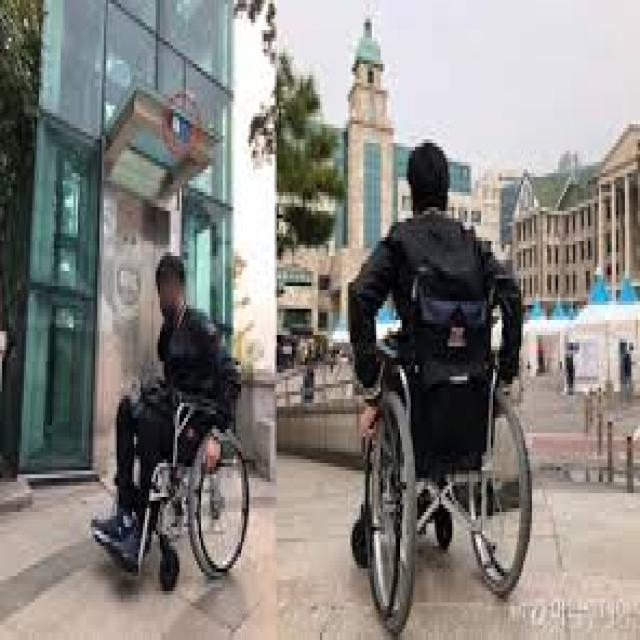wheelchair: (350, 142, 533, 636), (94, 253, 250, 592)
